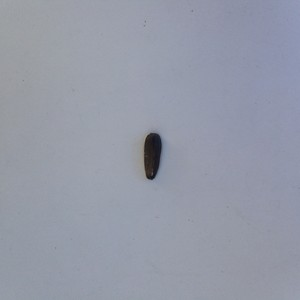girasol: (138, 131, 169, 184)
